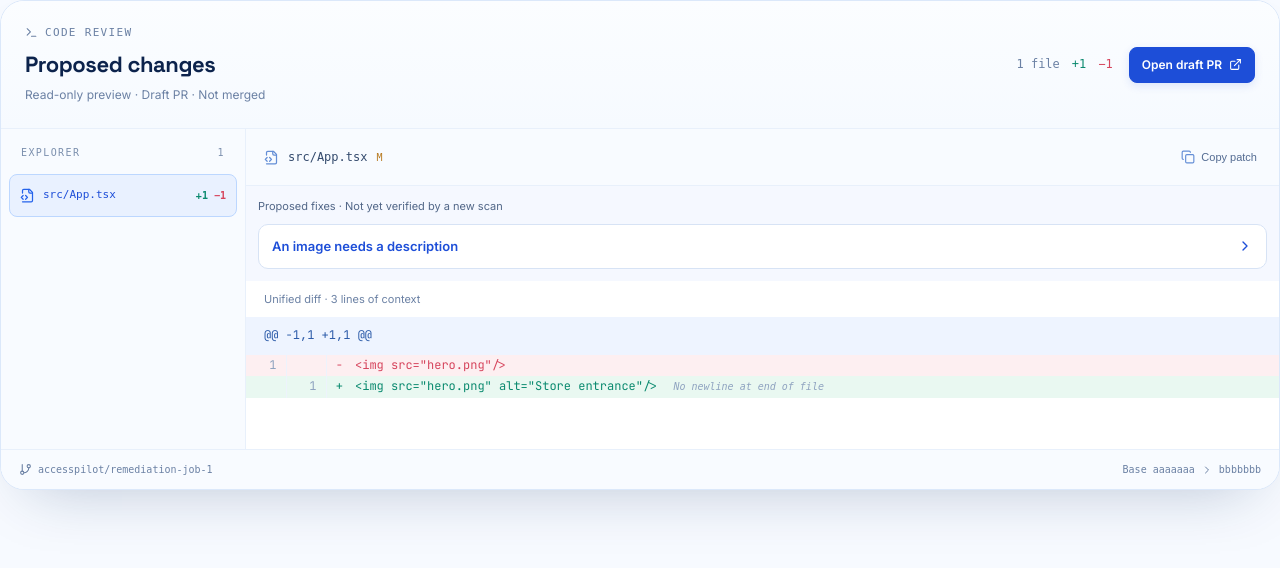
Test: copies only the selected visible patch and preserves newline markers
Expected: the element named "Code diff for" is shown, [246, 317, 1279, 398]
Click the button with aria-label "Copy visible patch".
click(1219, 157)  # box [1177, 139, 1261, 175]
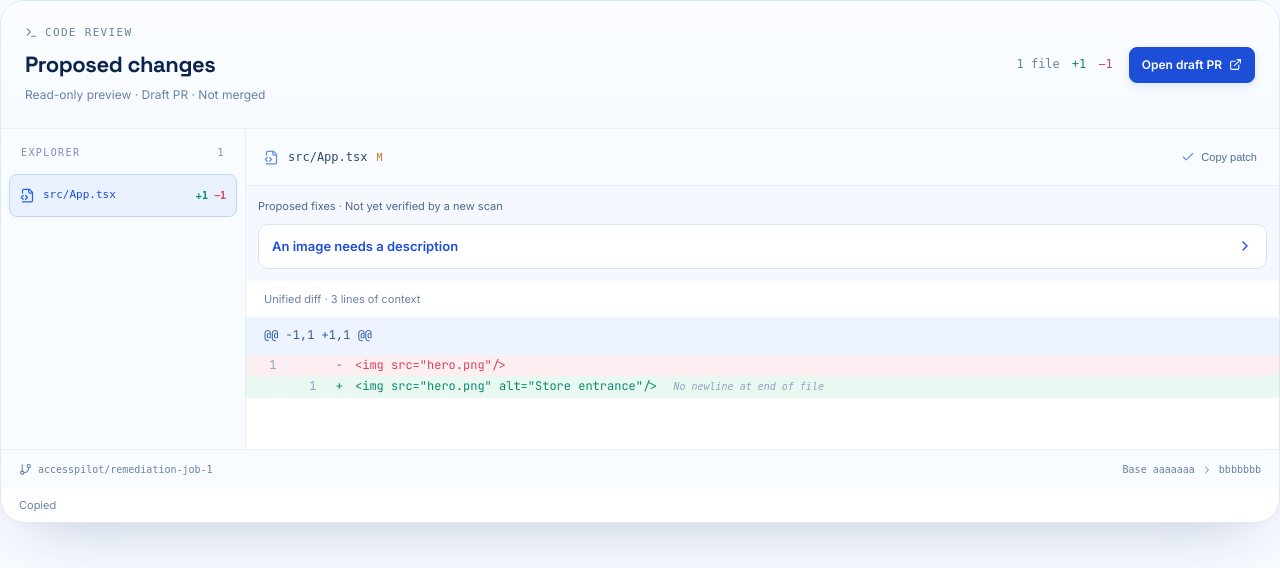
Result: the text "Copied" is shown at [19, 498, 56, 512]
